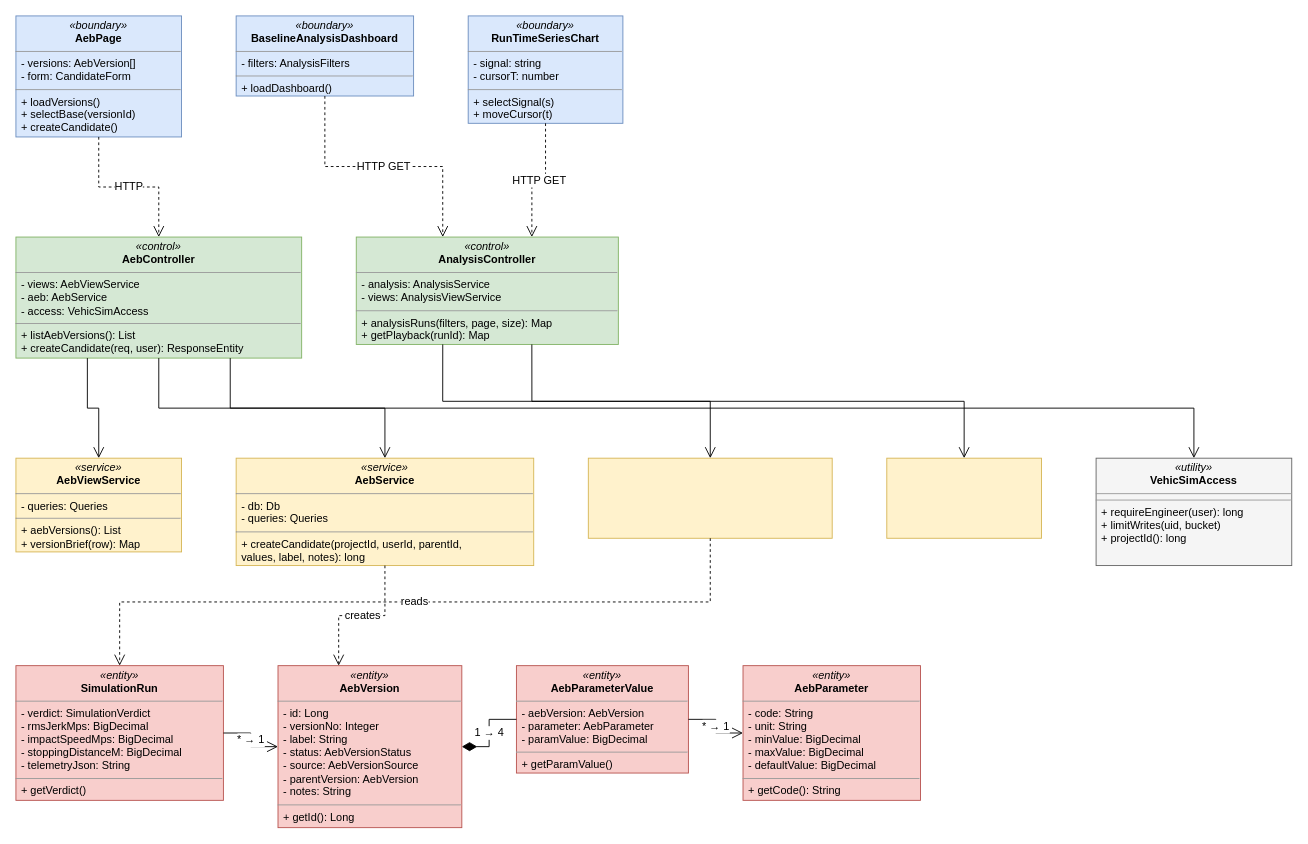
Image size: 1308x844. Some labels were removed from this diagram. The box of each missing label's shape, as (x1, y1, x2, y2) in pixels:
«service» AnalysisService - db: Db + dashboard(filters, page, size): Map: (587, 457, 832, 538)
«service» AnalysisViewService - db: Db + playback(runId): Map: (886, 457, 1041, 538)
